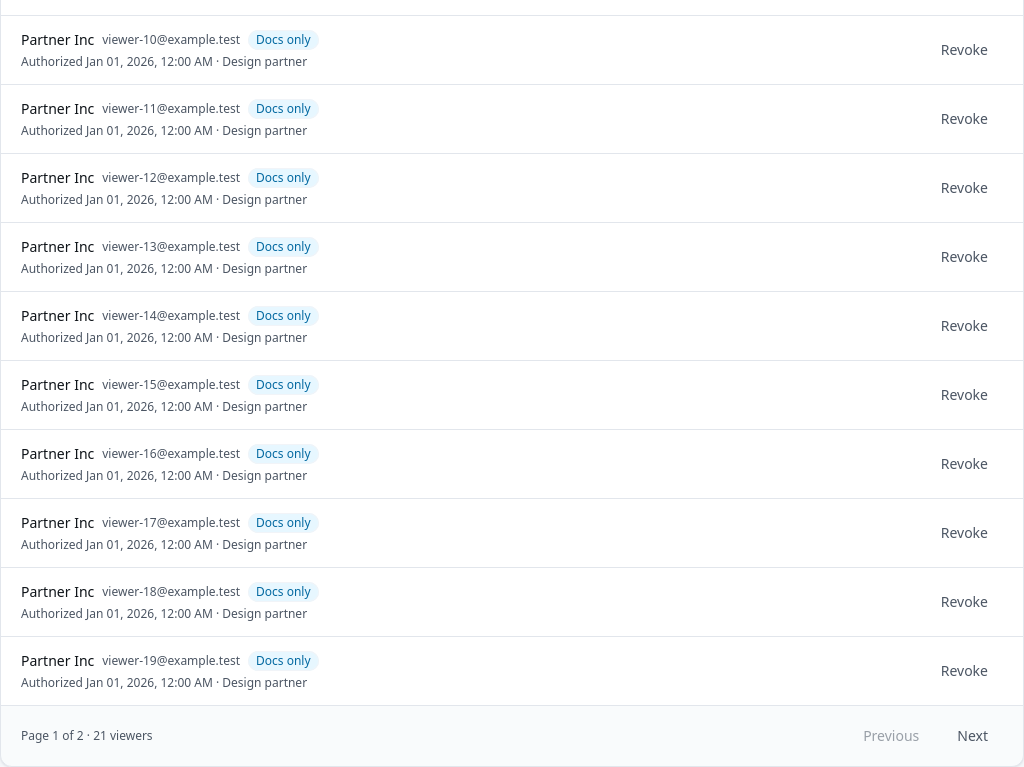
Test case: private API viewers › steps back a page when a revocation empties the last one (issue #596)
(page scrolled)
Expected: the text "Page 1 of 2 · 21 viewers" is shown, [21, 728, 153, 744]
Click the button "Next" at coordinates (973, 736), box [942, 718, 1003, 754]
(page scrolled)
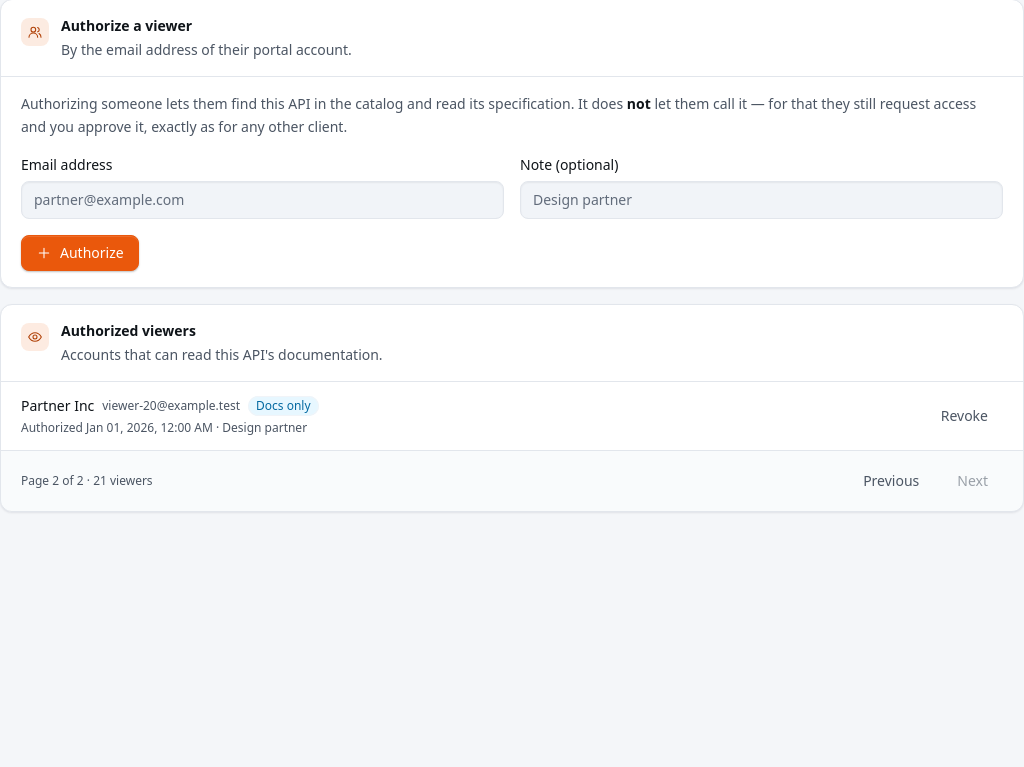
Expected: the text "viewer-20@example.test" is shown, [102, 398, 240, 414]
Click the button "Revoke" at coordinates (964, 416), box [926, 398, 1003, 434]
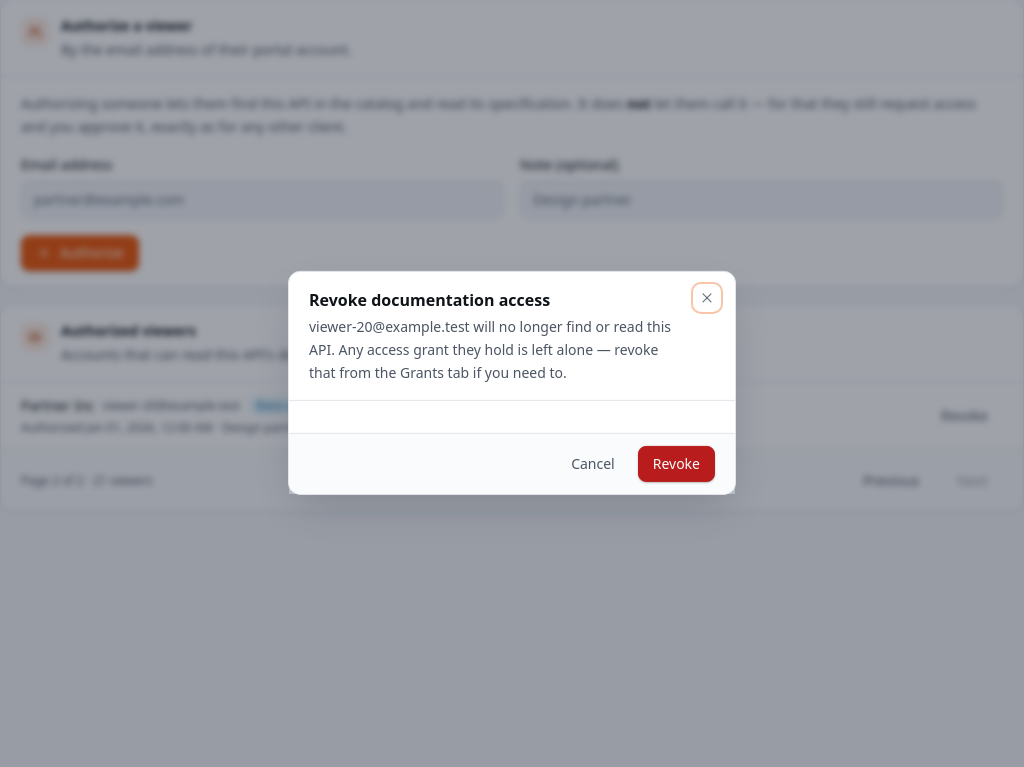
Click the button "Revoke" at coordinates (676, 464), box [638, 446, 715, 482]
(page scrolled)
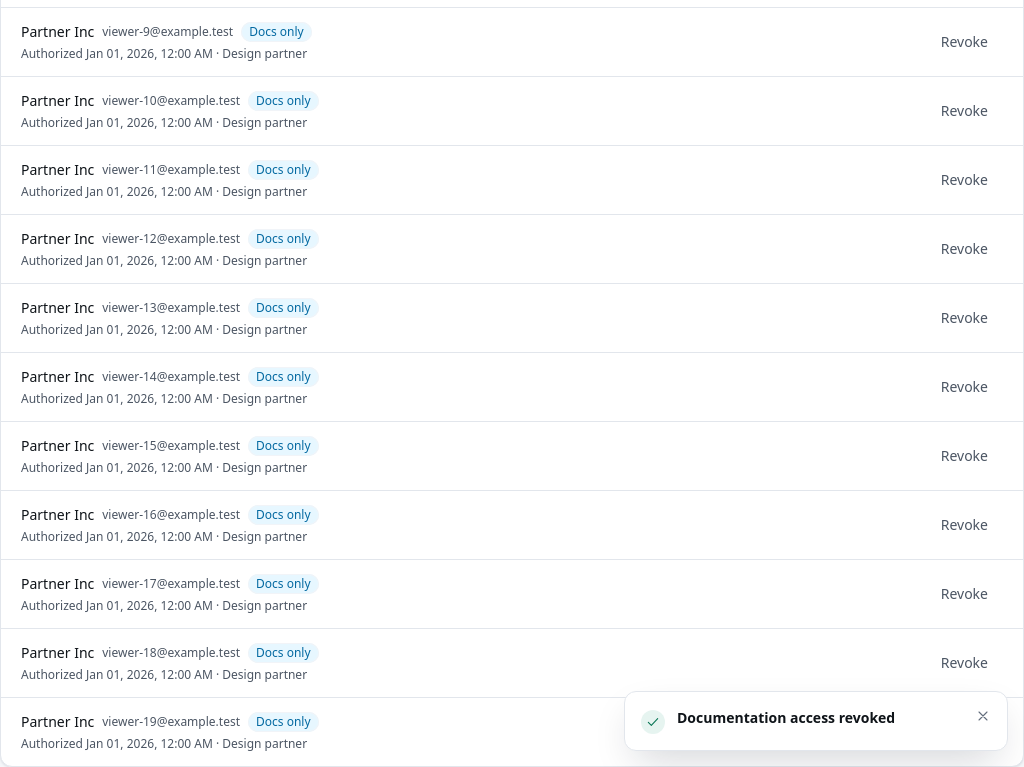
Expected: the text "Documentation access revoked" is shown, [677, 708, 895, 727]
Expected: the text "viewer-19@example.test" is shown, [102, 714, 240, 730]
